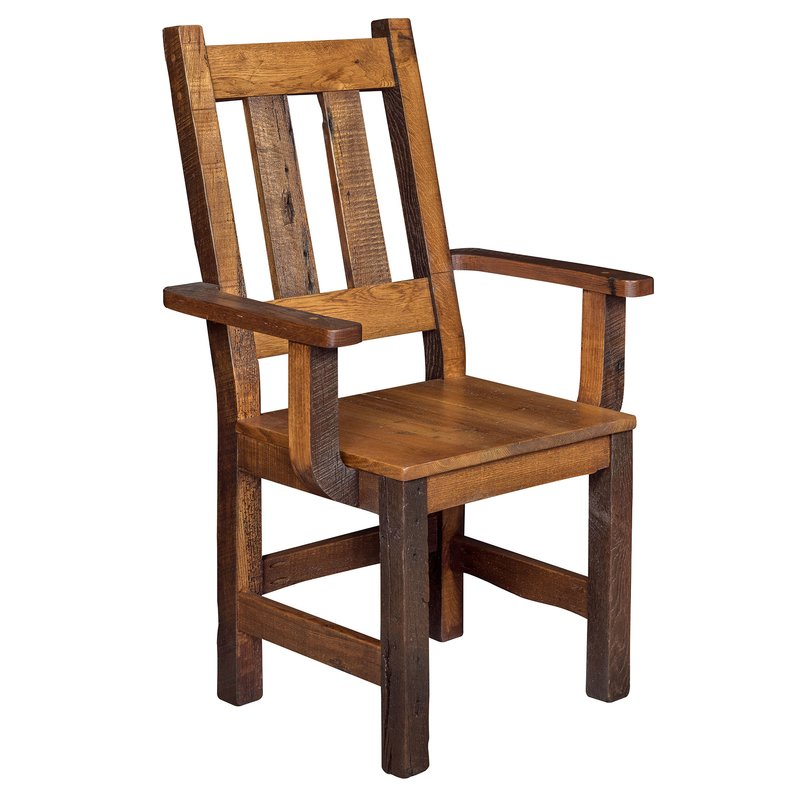chairs: (151, 16, 657, 784)
